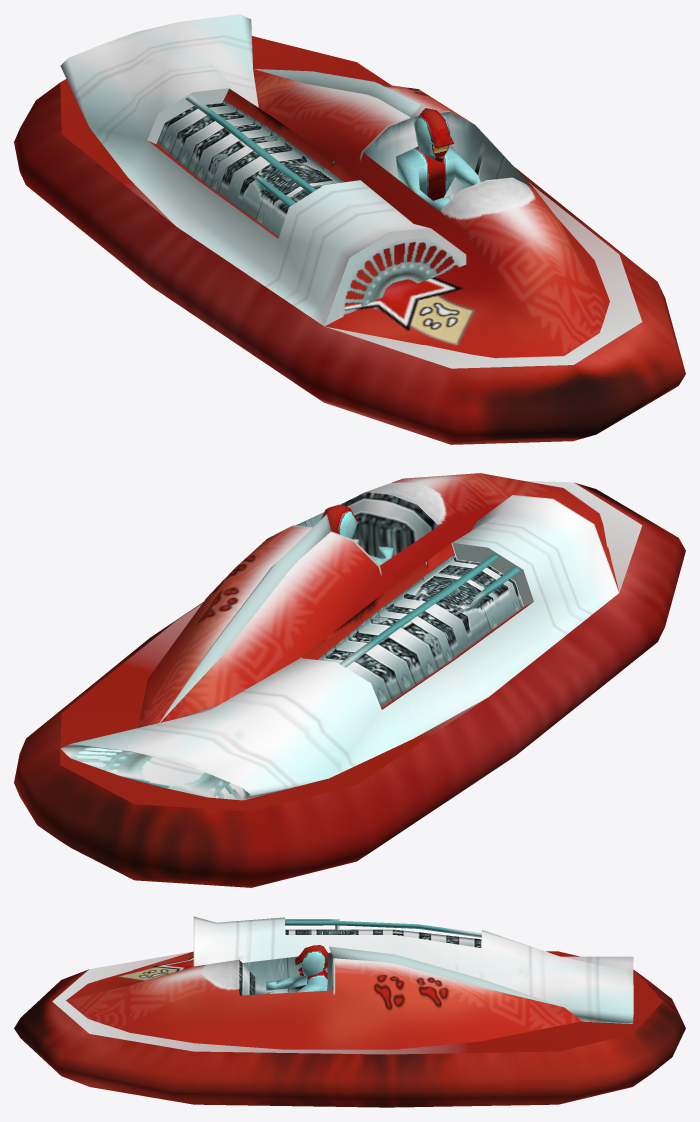
The model's file is HoverCraft.glb.
The picture shows the model from 3 angles, top to bottom: view 1: azimuth 30°, elevation 25°; view 2: azimuth 150°, elevation 25°; view 3: azimuth 270°, elevation 25°; orthographic projection. The views are drawn at different scales.
Visible parts, largest first — view 1: phong*, body, Head; view 2: phong*, Head; view 3: phong*, body, Head.
Part boxes in pixels (<box>): phong*: <box>14,14,685,444</box>; body: <box>396,145,480,211</box>; Head: <box>414,108,453,162</box>; phong*: <box>14,473,685,887</box>; Head: <box>320,504,359,538</box>; phong*: <box>14,916,685,1107</box>; body: <box>266,968,327,993</box>; Head: <box>295,945,328,976</box>.
Bounding box in the file's own units: 2.51 × 1.15 × 5.58.
2 materials, 2 textured.
